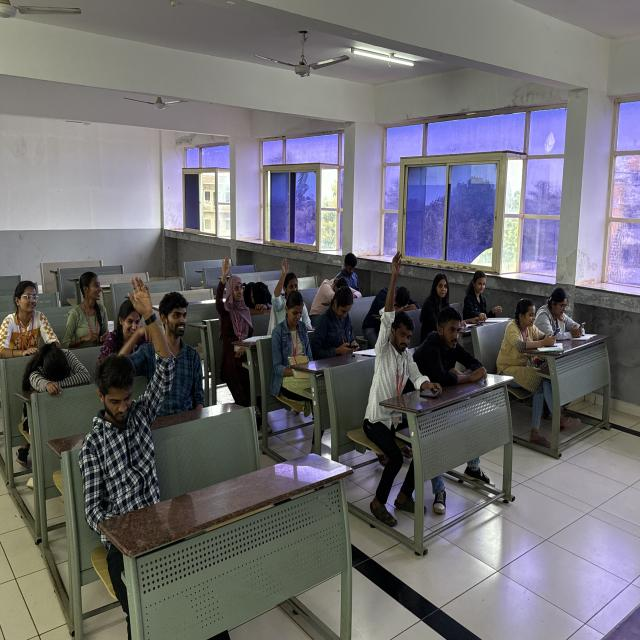Hand Rising: (92, 269, 176, 484), (368, 247, 423, 396), (211, 249, 259, 365), (271, 254, 310, 323)
Sleeping: (15, 339, 94, 403), (363, 283, 423, 320), (237, 274, 279, 320)
Using Phone: (488, 296, 564, 356), (536, 282, 590, 342), (315, 284, 362, 352), (337, 248, 367, 298)
Writing: (269, 292, 325, 376)
